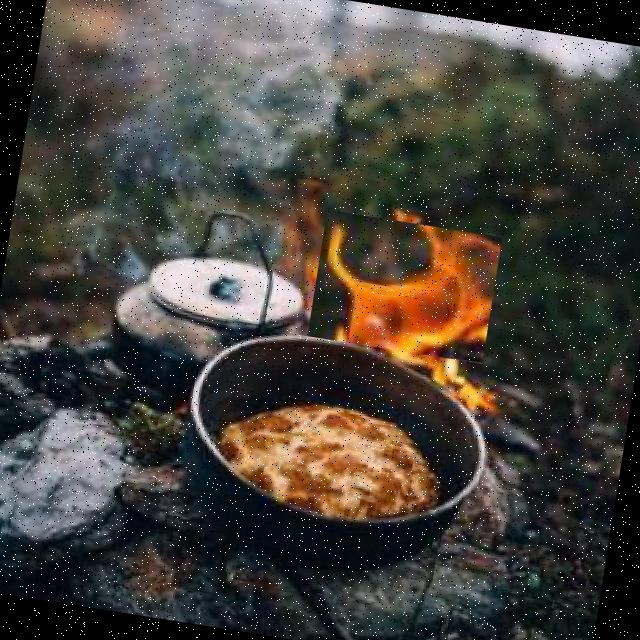fire: (307, 210, 502, 364)
